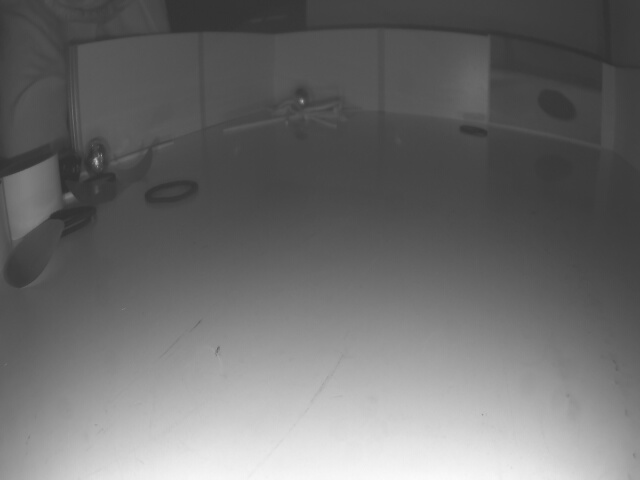Live: (89, 143, 117, 179), (293, 90, 310, 110)
